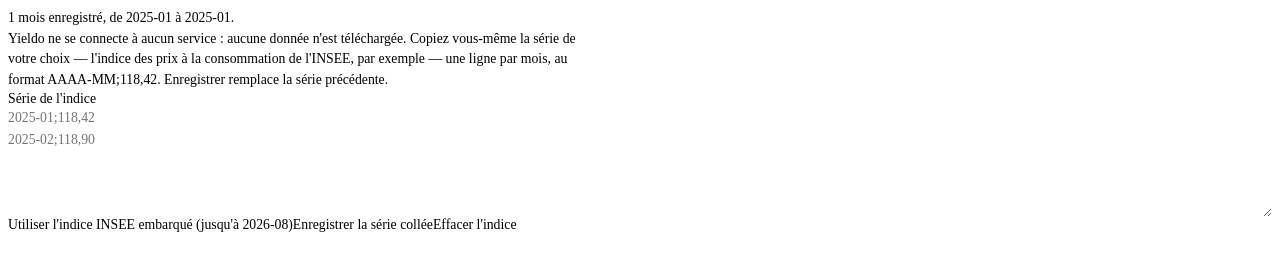
Test: PriceIndexForm › does not erase the stored series when the textarea is empty
Click the button "Enregistrer la série collée" at point(363, 225), box top-left (293, 217), bottom-right (433, 233)
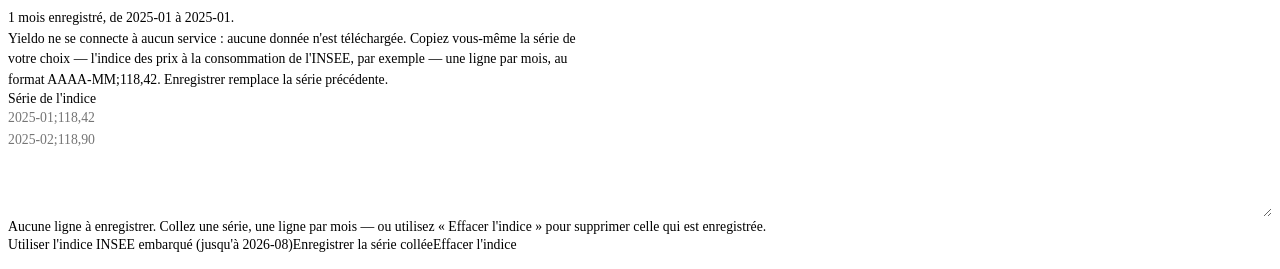
Expected: the message shows "Aucune ligne à enregistrer", top-left (8, 219), bottom-right (766, 234)
